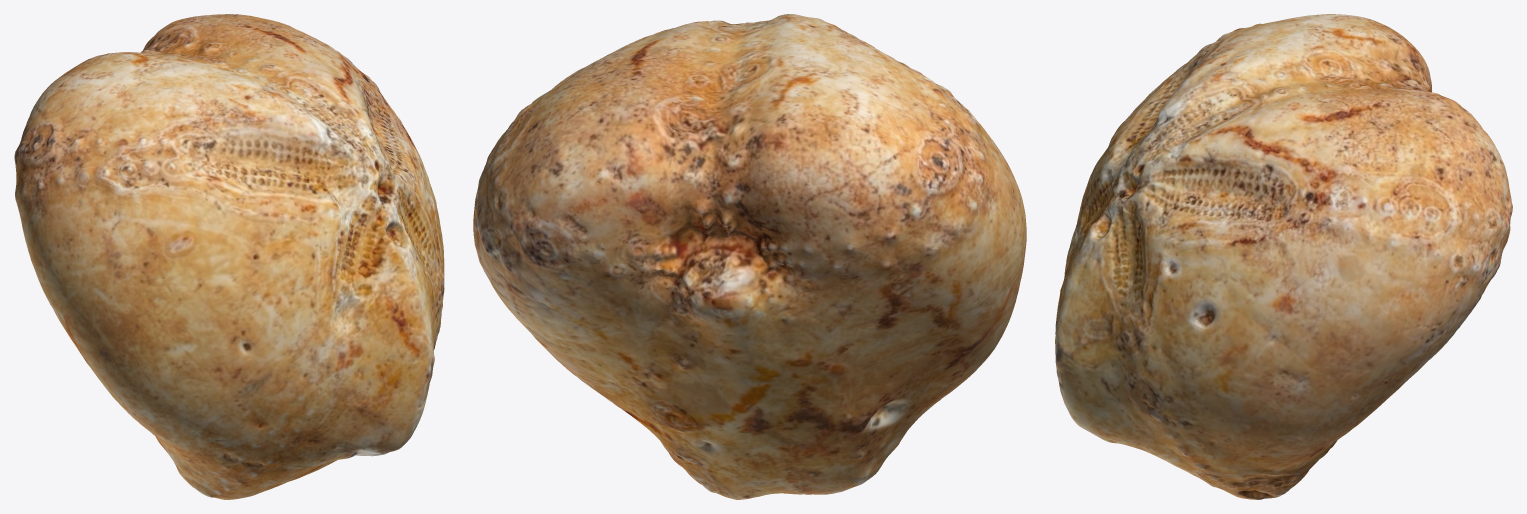
The model's file is fosil.glb.
The picture shows the model from 3 angles, left to right: view 1: azimuth 30°, elevation 25°; view 2: azimuth 150°, elevation 25°; view 3: azimuth 270°, elevation 25°; orthographic projection. The views are drawn at different scales.
Parts seen in each view (by area): view 1: _8E863E91_C4B1_4E5F_89CB_ABD19DC294AB_0; view 2: _8E863E91_C4B1_4E5F_89CB_ABD19DC294AB_0; view 3: _8E863E91_C4B1_4E5F_89CB_ABD19DC294AB_0.
Part boxes in pixels (x1=…): _8E863E91_C4B1_4E5F_89CB_ABD19DC294AB_0: x1=14, y1=14, x2=444, y2=499; _8E863E91_C4B1_4E5F_89CB_ABD19DC294AB_0: x1=473, y1=14, x2=1026, y2=499; _8E863E91_C4B1_4E5F_89CB_ABD19DC294AB_0: x1=1055, y1=14, x2=1512, y2=499.
Size of the model in its own units: 26.9 by 26.78 by 26.52.
Materials: 1 (1 with a texture image).
